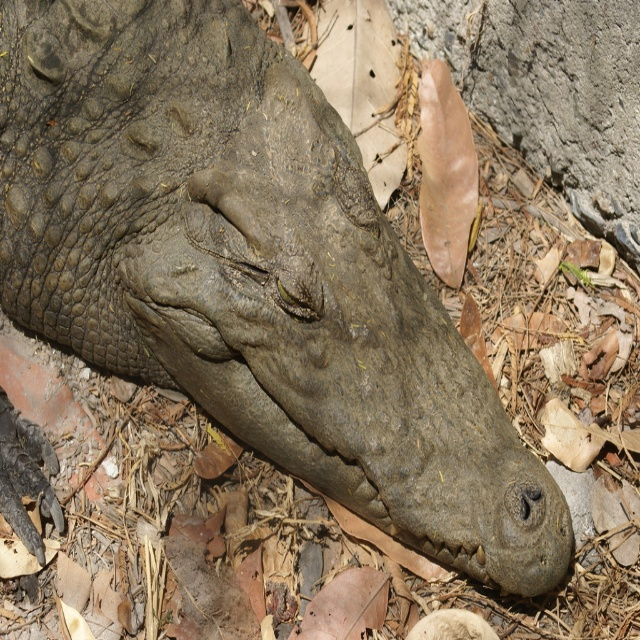Crocodile: (0, 0, 573, 601)
